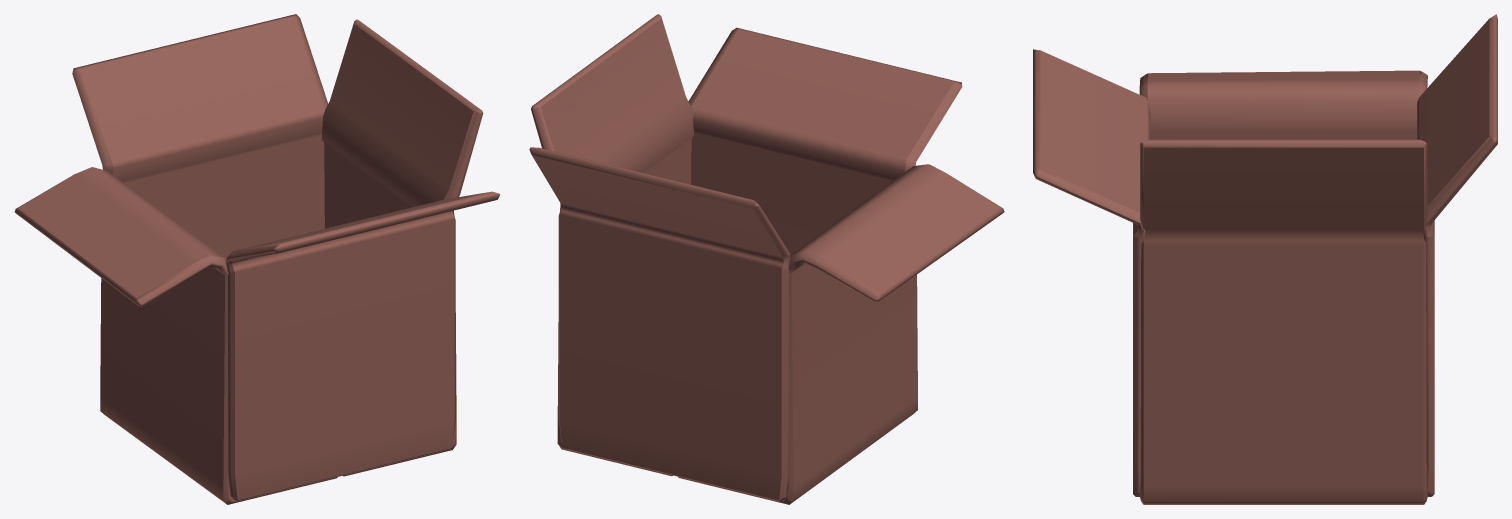
File: MovingBox_B 1.fbx
The picture shows the model from 3 angles, left to right: view 1: azimuth 30°, elevation 25°; view 2: azimuth 150°, elevation 25°; view 3: azimuth 270°, elevation 25°; orthographic projection. The views are drawn at different scales.
Visible parts, largest first — view 1: Box2, Box1; view 2: Box2, Box1; view 3: Box1, Box2.
Part boxes in pixels (x1,y1,x2,y2): Box2: (72, 14, 500, 501); Box1: (14, 19, 483, 504); Box2: (529, 27, 962, 501); Box1: (531, 14, 1004, 504); Box1: (1139, 70, 1427, 504); Box2: (1033, 14, 1497, 496).
Bounding box in the file's own units: 1.64 × 1.51 × 1.68.
